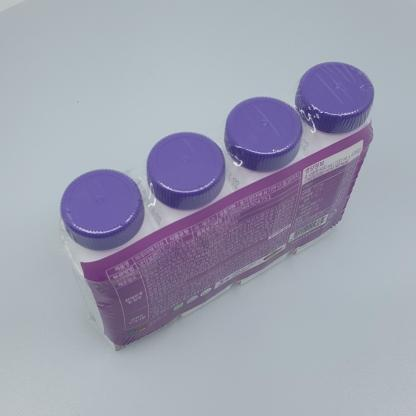-------------400ML: (58, 62, 375, 351)
